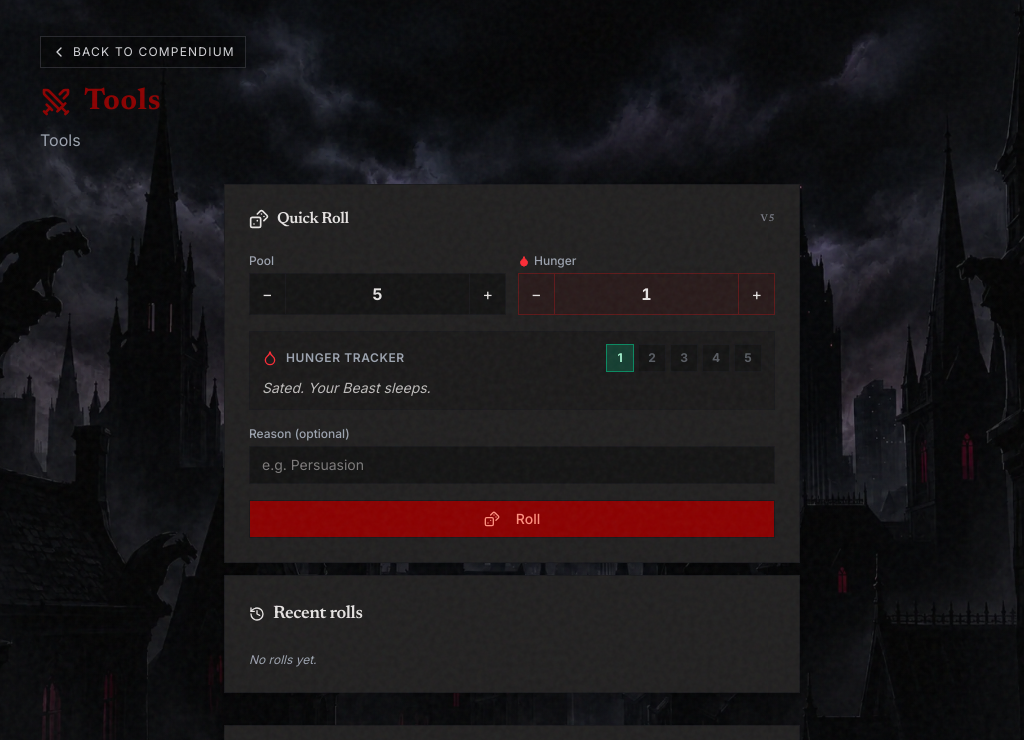
Tools — recent roll history (Batch AL) › records each V5 dice roll as a history entry and surfaces the Clear button
Note: Roll once with the regular V5 dice roller (the "Roll" button).
What coordinates should you click on to do the following:
click the button "Roll"
I would click on:
 (492, 519)
Its box is x1=249 y1=500 x2=775 y2=538.
(page scrolled)
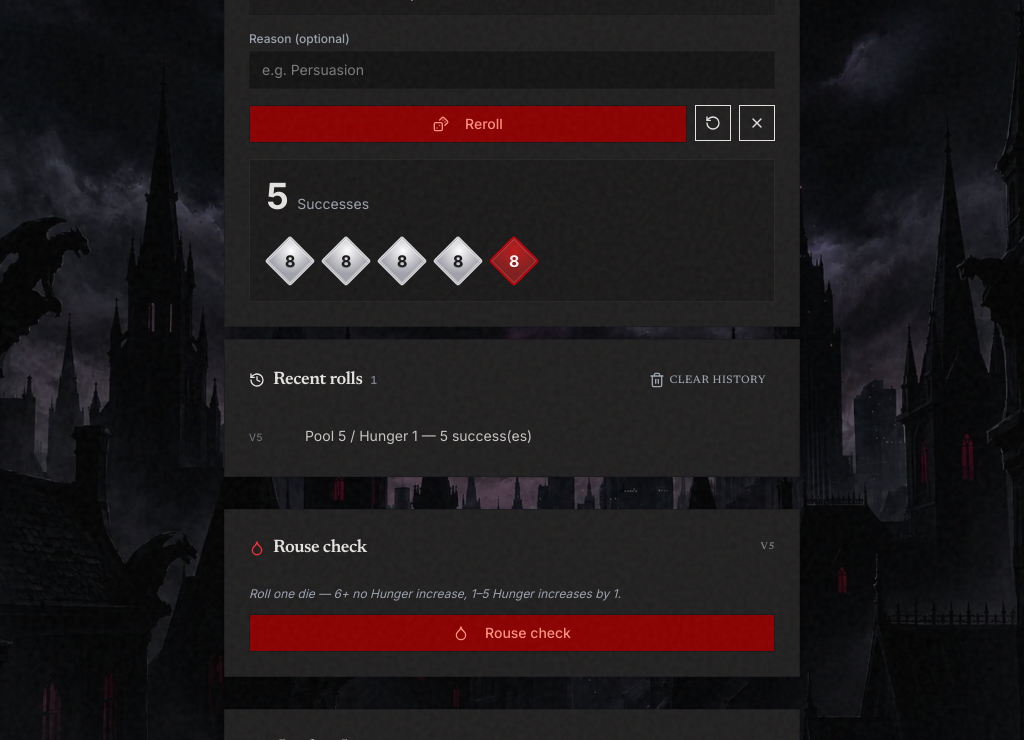
Check: the text with test id "dice-history-empty" is gone
Check: the list item with test id "dice-history-entry-0" is shown, box x1=249 y1=427 x2=532 y2=444
Check: the button with test id "dice-history-clear" is shown, box x1=640 y1=364 x2=775 y2=396
